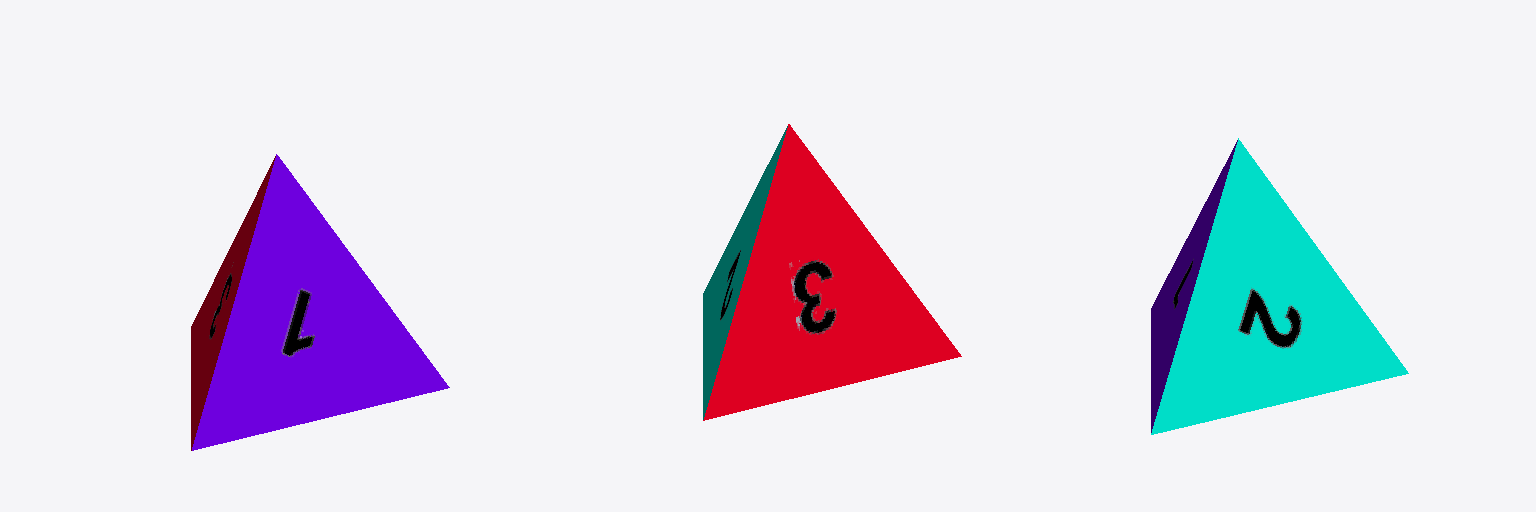
The picture shows the model from 3 angles: view 1: azimuth 30°, elevation 25°; view 2: azimuth 150°, elevation 25°; view 3: azimuth 270°, elevation 25°; orthographic projection.
Parts seen in each view (by area): view 1: mesh2, mesh1; view 2: mesh1, mesh3; view 3: mesh3, mesh2.
Part boxes in pixels (bbox=[...]): mesh2: bbox=[192, 154, 449, 450]; mesh1: bbox=[191, 156, 275, 450]; mesh1: bbox=[703, 124, 961, 420]; mesh3: bbox=[703, 126, 787, 419]; mesh3: bbox=[1151, 138, 1408, 434]; mesh2: bbox=[1151, 140, 1237, 432].
Size of the model in its own units: 11.64 by 10.12 by 10.08.
Materials: 1 (1 with a texture image).